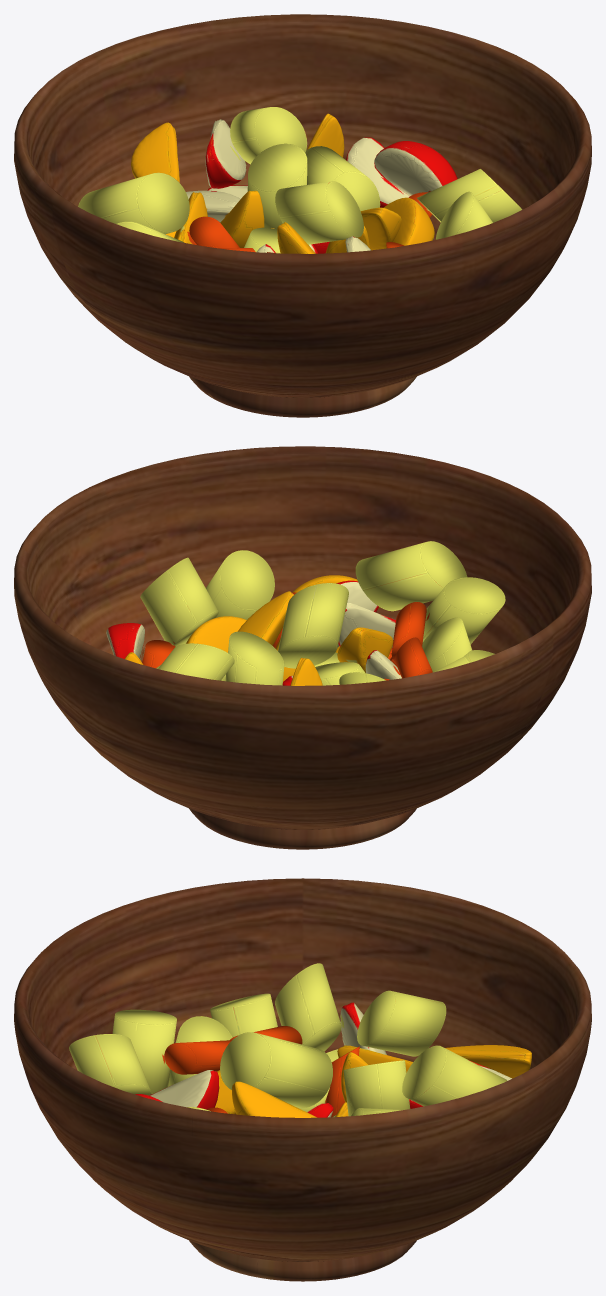
Rendered from bowl_with_fruit_salad.glb.
The picture shows the model from 3 angles, top to bottom: view 1: azimuth 30°, elevation 25°; view 2: azimuth 150°, elevation 25°; view 3: azimuth 270°, elevation 25°; orthographic projection.
Visible parts, largest first — view 1: SM_Bowl_FruitSalad.001; view 2: SM_Bowl_FruitSalad.001; view 3: SM_Bowl_FruitSalad.001.
Boxes of the visible parts, x1,y1,x2,y2 form: SM_Bowl_FruitSalad.001: (14,14,591,417); SM_Bowl_FruitSalad.001: (14,446,591,849); SM_Bowl_FruitSalad.001: (14,878,591,1281).
Bounding box in the file's own units: 64.06 × 29.86 × 64.06.
Materials: 2 (2 with a texture image).
